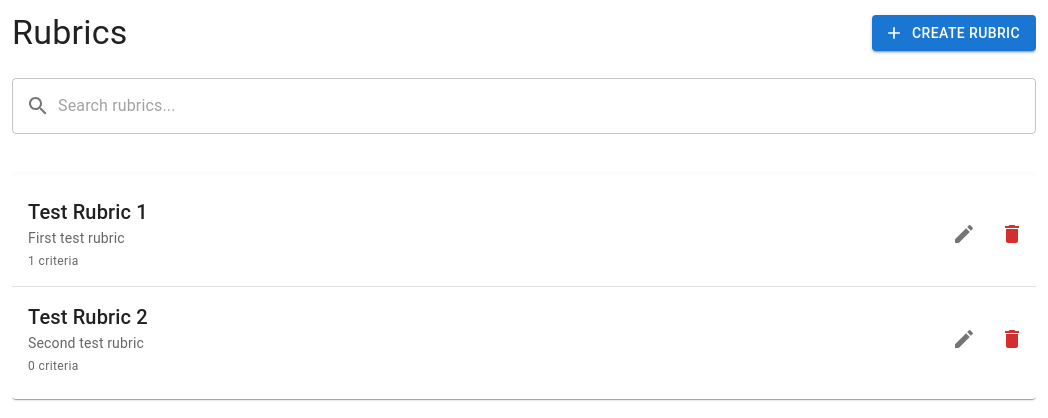
Test: RubricsListPage › filters rubrics by search term
Type "First" into the field with placeholder "Search rubrics...".
click(547, 106); type("First")  # box [58,78,1036,134]
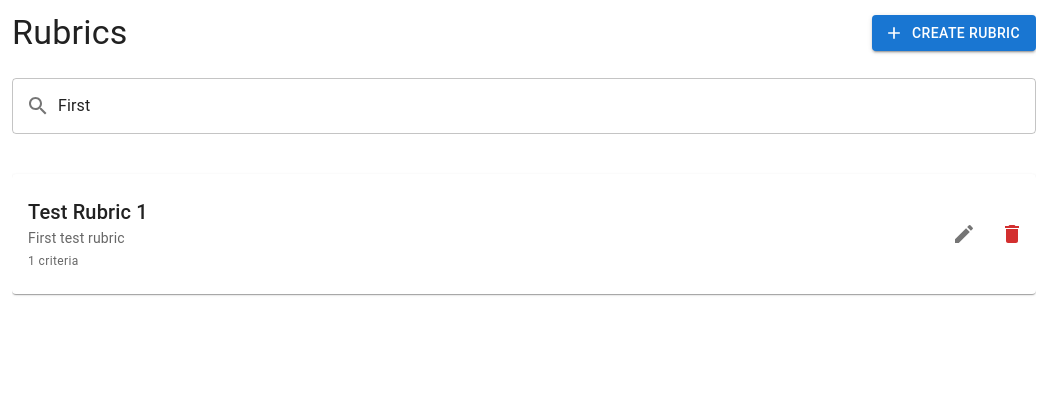
Expected: the text "Test Rubric 1" is shown, [28,200,148,224]
Result: the button "Test Rubric 2" is gone
